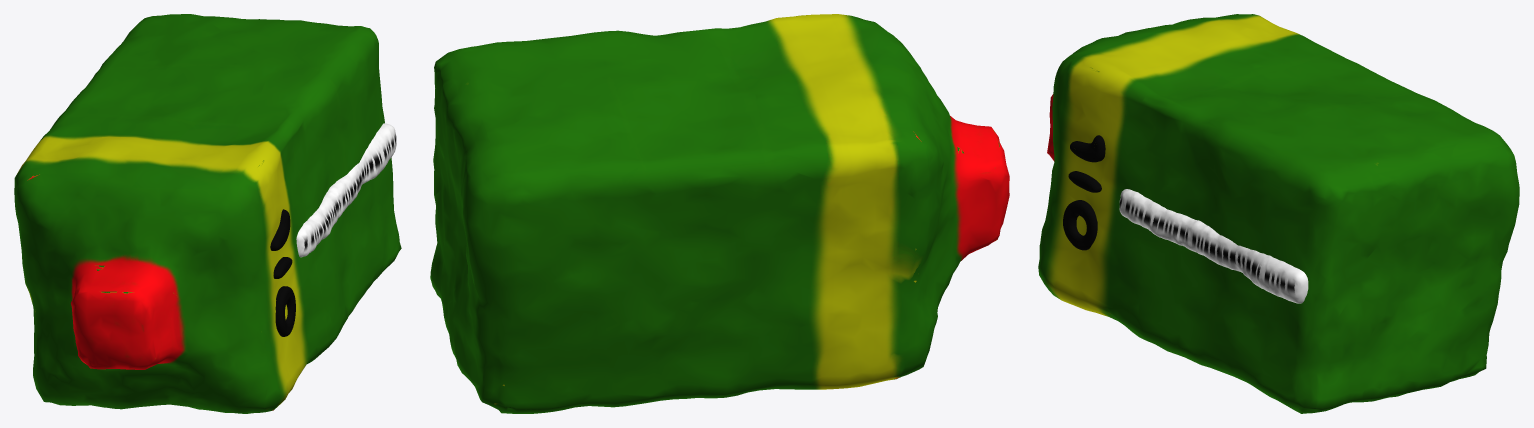
The model's file is Oil.glb.
The picture shows the model from 3 angles, left to right: view 1: azimuth 30°, elevation 25°; view 2: azimuth 150°, elevation 25°; view 3: azimuth 270°, elevation 25°; orthographic projection. The views are drawn at different scales.
Parts seen in each view (by area): view 1: Cube, Cube.001, Text.035; view 2: Cube; view 3: Cube, Cube.001, Text.035.
Part boxes in pixels (left/top/right/bottom): Cube: left=14, top=14, right=401, bottom=413; Cube.001: left=296, top=123, right=396, bottom=257; Text.035: left=270, top=209, right=295, bottom=336; Cube: left=430, top=14, right=1009, bottom=413; Cube: left=1038, top=14, right=1519, bottom=413; Cube.001: left=1119, top=189, right=1308, bottom=303; Text.035: left=1063, top=135, right=1105, bottom=250.
Bounding box in the file's own units: 2.35 × 1.38 × 2.3.
3 materials, 2 textured.
